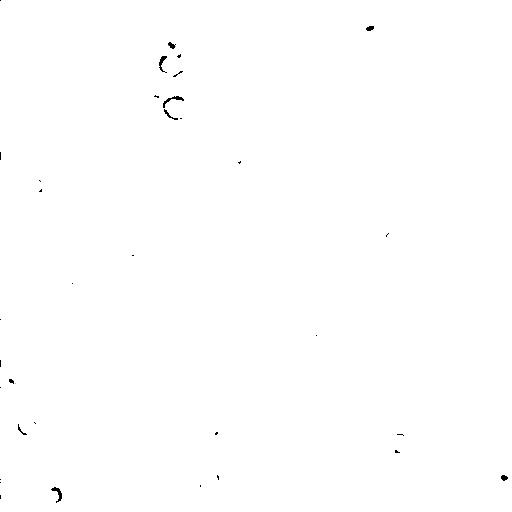micro-algae: (117, 46, 195, 121), (360, 161, 429, 234), (460, 67, 511, 149), (419, 458, 462, 499), (457, 1, 497, 45), (273, 42, 318, 79), (221, 141, 259, 180), (0, 355, 33, 392), (149, 135, 185, 167), (482, 456, 512, 490), (177, 29, 209, 58), (351, 11, 381, 41), (27, 99, 53, 129), (155, 29, 181, 57), (312, 308, 338, 335), (383, 431, 412, 455), (258, 290, 286, 314), (120, 241, 143, 270), (160, 96, 189, 119), (93, 63, 123, 85), (67, 264, 91, 291), (204, 419, 228, 446), (494, 83, 512, 119), (151, 369, 174, 397), (168, 438, 194, 461), (172, 72, 194, 99), (229, 327, 258, 347), (158, 395, 185, 415), (198, 469, 221, 492), (15, 415, 39, 437), (381, 225, 401, 251), (106, 494, 135, 511), (215, 345, 236, 367), (159, 56, 181, 77), (313, 329, 333, 352), (45, 485, 65, 507), (290, 270, 311, 289), (121, 446, 139, 465), (137, 299, 153, 317), (170, 0, 198, 10), (434, 0, 464, 9), (395, 499, 417, 511), (32, 176, 45, 195), (23, 503, 49, 511), (1, 479, 11, 497)
